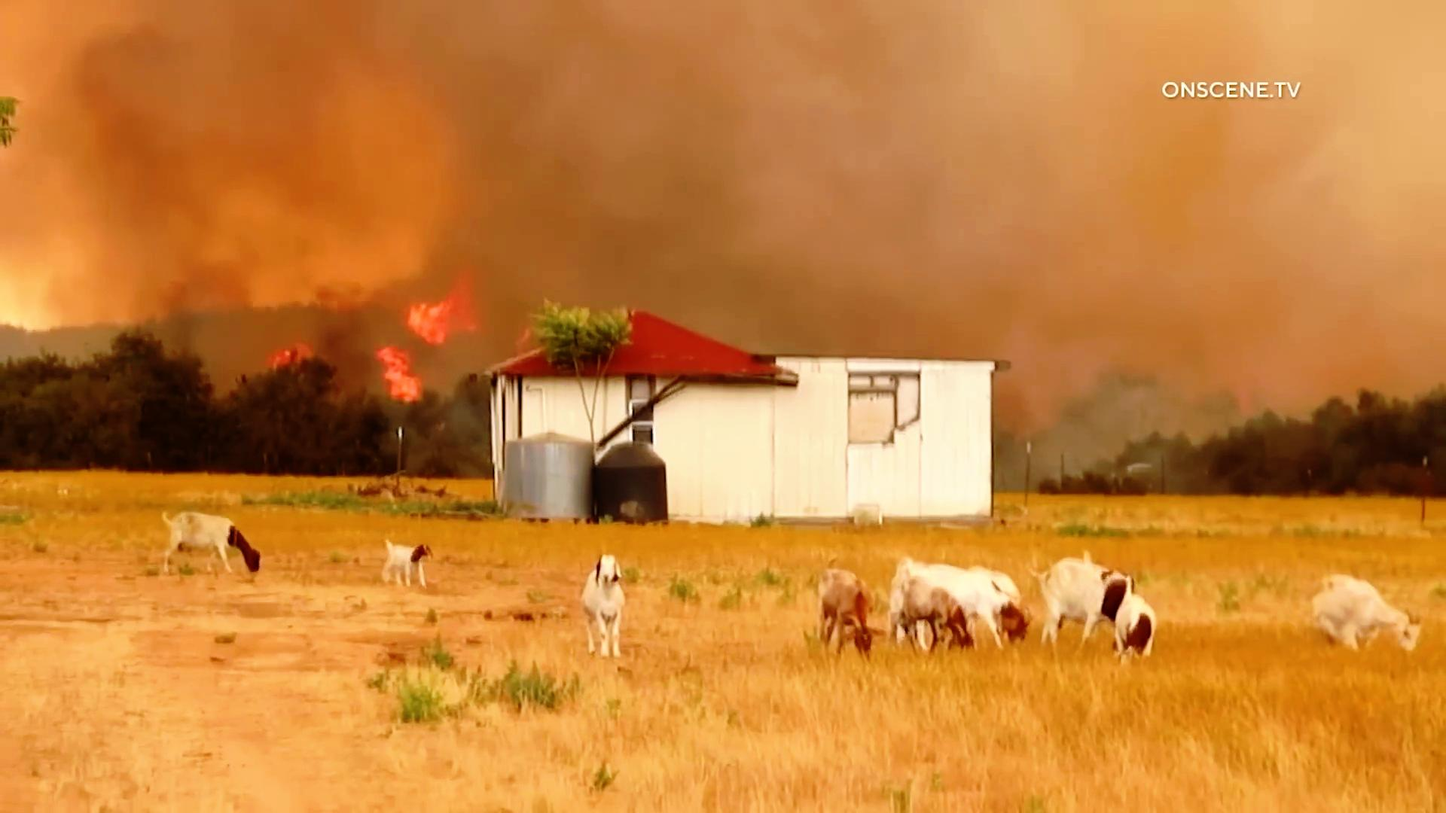fire: (367, 294, 484, 398)
smoke: (319, 32, 918, 290)
